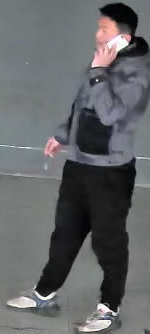phone: (84, 3, 149, 127)
